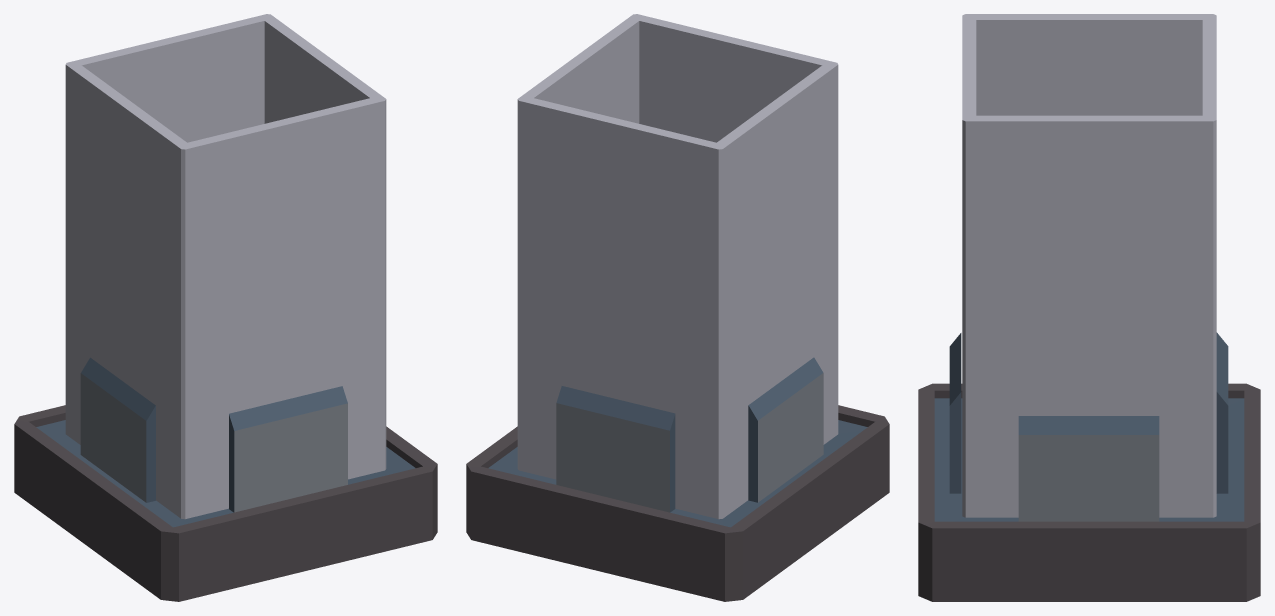
Rendered from manghe02.glb.
The picture shows the model from 3 angles, left to right: view 1: azimuth 30°, elevation 25°; view 2: azimuth 150°, elevation 25°; view 3: azimuth 270°, elevation 25°; orthographic projection. The views are drawn at different scales.
Visible parts, largest first — view 1: 立方体.006; view 2: 立方体.006; view 3: 立方体.006.
Part boxes in pixels (box(x1,y1,x2,y2)): 立方体.006: box(14, 14, 437, 601); 立方体.006: box(466, 14, 889, 601); 立方体.006: box(918, 14, 1260, 601).
Bounding box in the file's own units: 0.998 × 1.48 × 0.998.
Materials: 1 (1 with a texture image).
